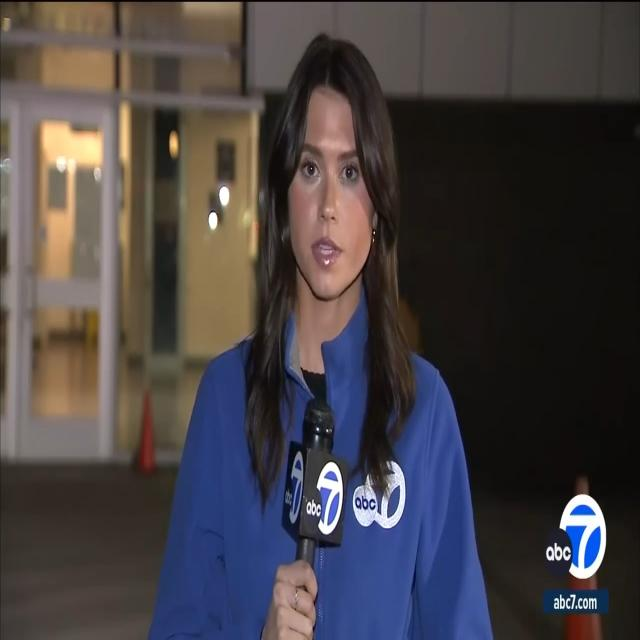microphone: (290, 395, 348, 633)
